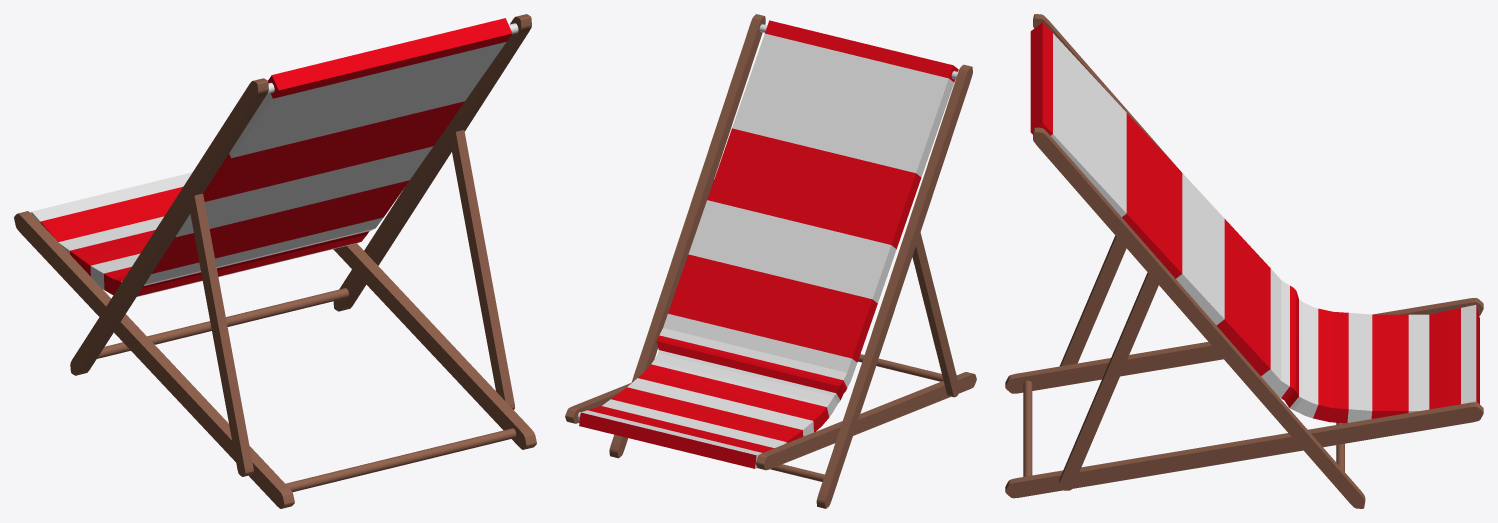
File: Chair.fbx
The picture shows the model from 3 angles, left to right: view 1: azimuth 30°, elevation 25°; view 2: azimuth 150°, elevation 25°; view 3: azimuth 270°, elevation 25°; orthographic projection. The views are drawn at different scales.
Parts seen in each view (by area): view 1: Cube.006, Cube.002, Cube, Cube.003, Cube.001, Cube.004, Cube.005, Cylinder.001, Cylinder; view 2: Cube.006, Cube, Cube.001, Cube.002, Cube.004, Cube.003, Cylinder.001; view 3: Cube.006, Cube.003, Cube.001, Cube.002, Cube.005, Cube.004, Cylinder.001, Cube.
Part boxes in pixels (x1,y1,x2,y2): Cube.006: (31,18,512,296); Cube.002: (14,211,294,508); Cube: (70,78,268,375); Cube.003: (333,243,536,449); Cube.001: (333,14,531,311); Cube.004: (188,193,253,476); Cube.005: (450,130,514,409); Cylinder.001: (285,428,516,492); Cylinder: (97,288,348,358); Cube.006: (579,20,958,468); Cube: (816,64,972,508); Cube.001: (609,14,765,458); Cube.002: (755,372,976,470); Cube.004: (912,232,959,397); Cube.003: (565,382,631,423); Cylinder.001: (858,354,943,381); Cube.006: (1030,22,1479,423); Cube.003: (1005,402,1483,498); Cube.001: (1033,127,1365,508); Cube.002: (1005,298,1483,393); Cube.005: (1059,272,1158,490); Cube.004: (1060,235,1126,366); Cylinder.001: (1023,380,1032,476); Cube: (1033,14,1178,168).
Size of the model in its own units: 371 by 552 by 635.
